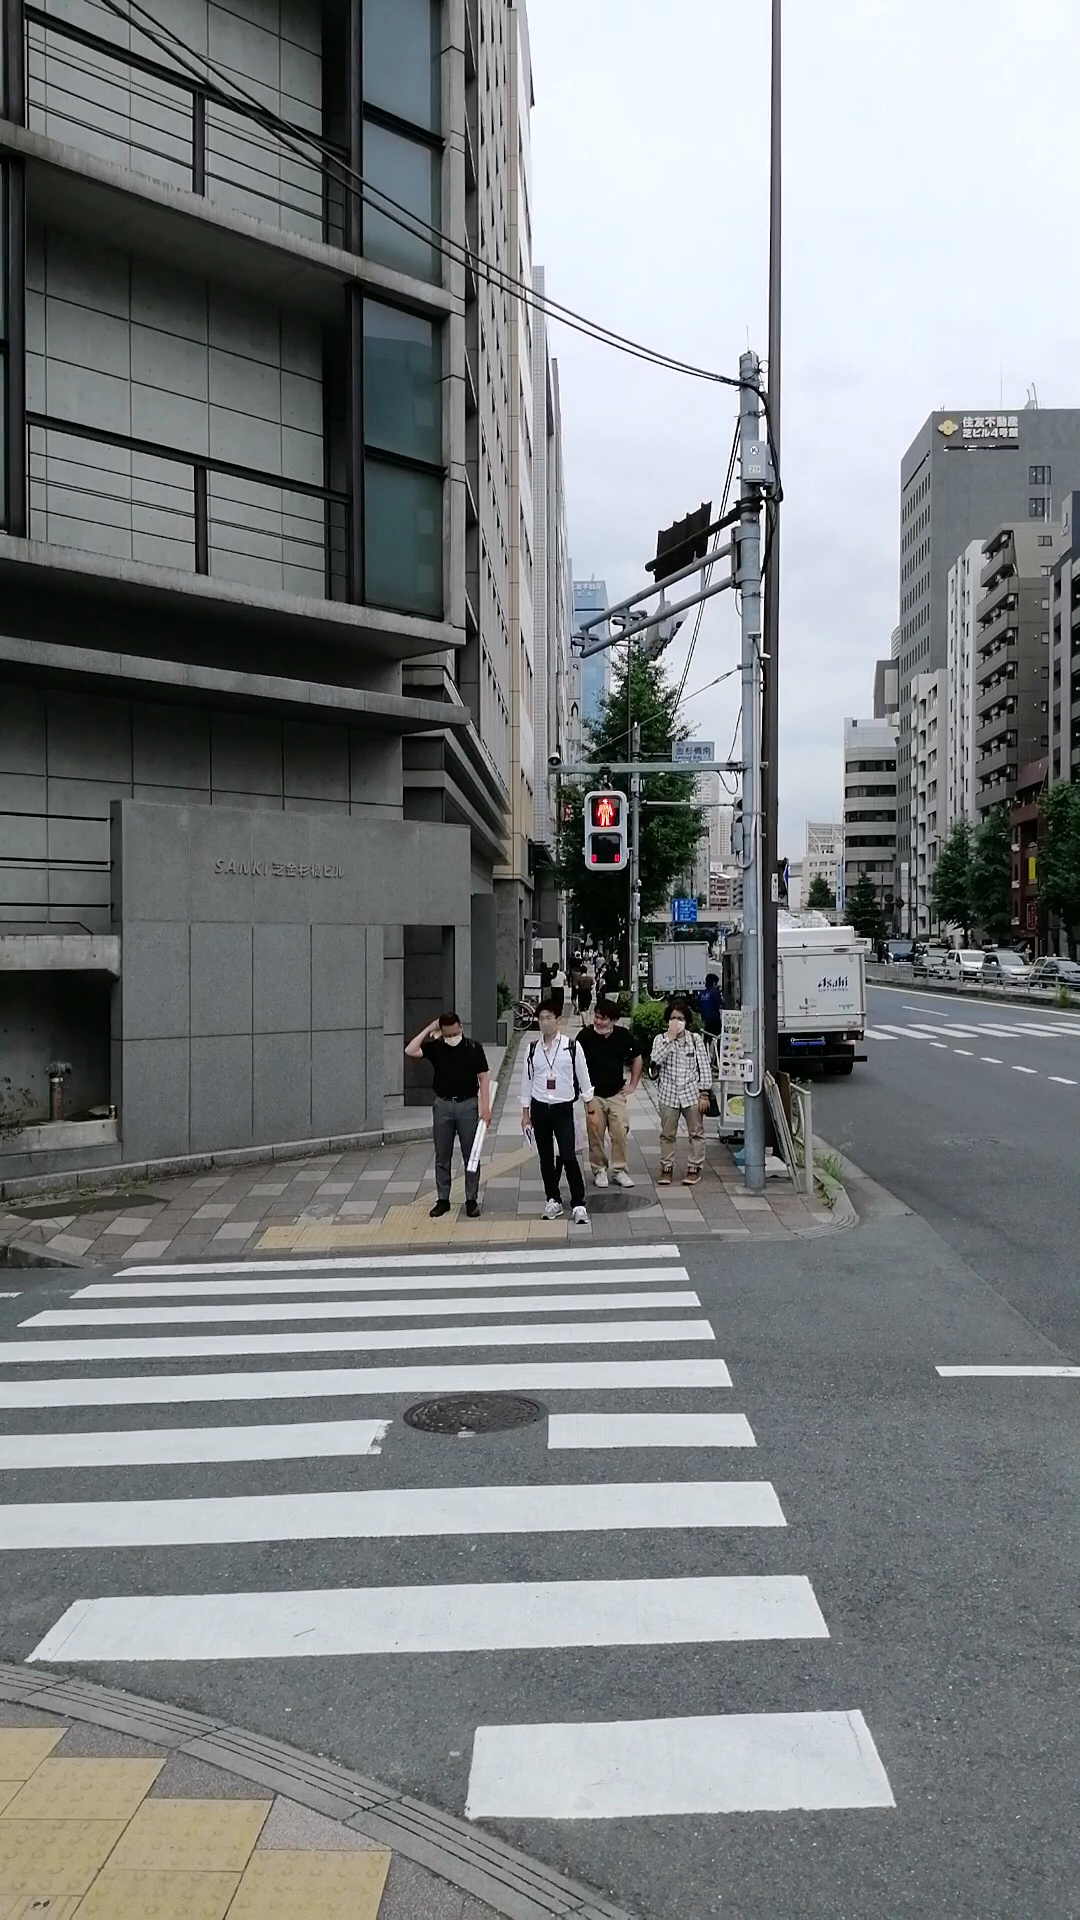red: (582, 789, 628, 872)
